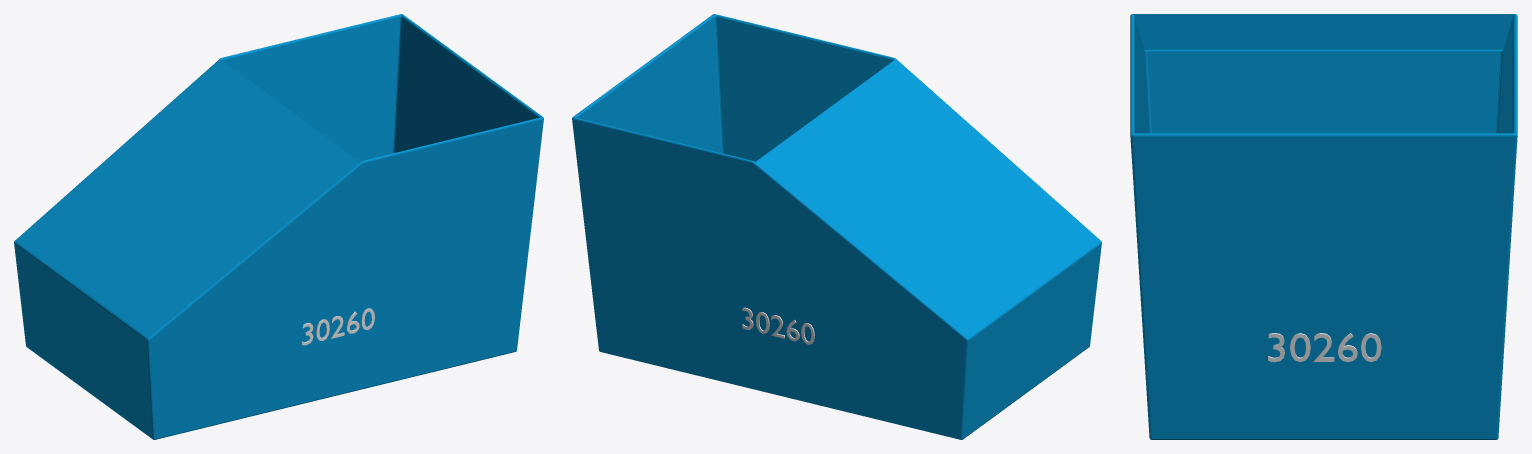
3 renders of one model, left to right at view 1: azimuth 30°, elevation 25°; view 2: azimuth 150°, elevation 25°; view 3: azimuth 270°, elevation 25°, orthographic. The views are drawn at different scales.
Visible parts, largest first — view 1: us-picking-bin-30260; view 2: us-picking-bin-30260; view 3: us-picking-bin-30260.
Part boxes in pixels (<box>): us-picking-bin-30260: <box>14,14,543,439</box>; us-picking-bin-30260: <box>572,14,1101,439</box>; us-picking-bin-30260: <box>1130,14,1517,439</box>.
Size of the model in its own units: 0.4441 by 0.254 by 0.2788.
